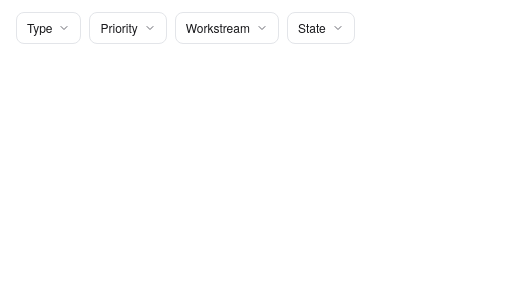
FilterBar's State menu › offers Blocked with the no-entry sign
The width and height of the screenshot is (509, 283).
Click the button "State" at (321, 28), box [287,12,355,44]
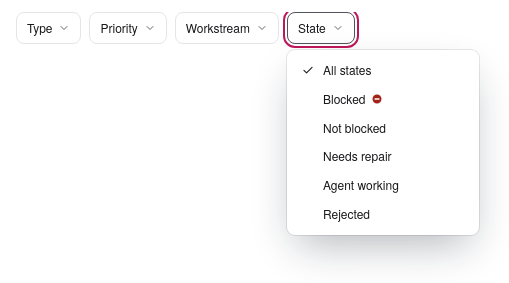
Now the 6th icon is shown, box [372,93,384,105]
